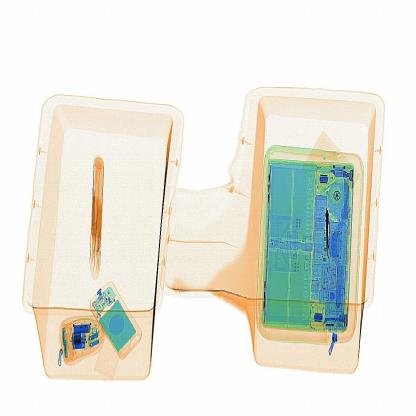knife: (318, 204, 343, 266)
